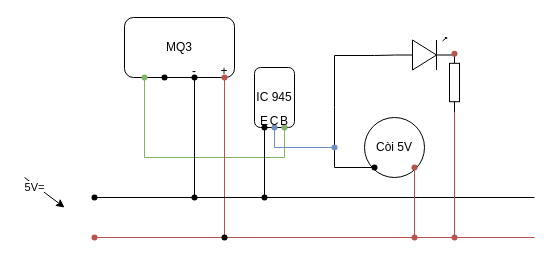
Image size: 553x265. Some labels were removed from this diagram. Here are the shapes that lost their labels. From the top down, the centre of each, then its label:
At (144,77): "A0".
At (164,77): "D0".
